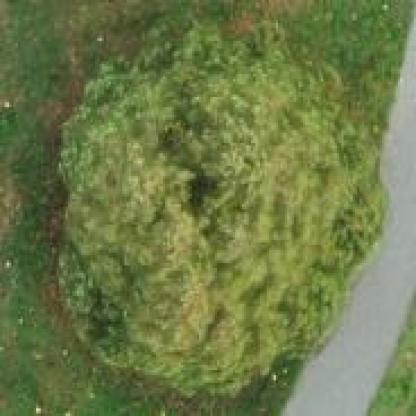Coniferous Tree: (45, 18, 391, 398)
